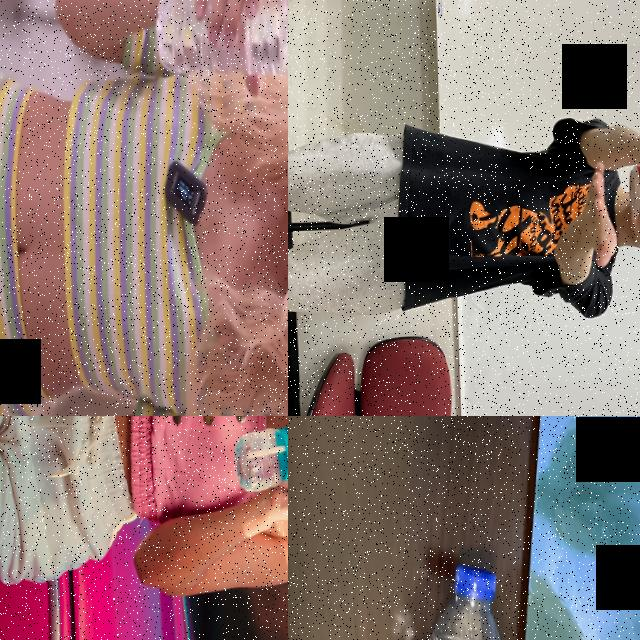bottle: (354, 546, 513, 640), (154, 0, 288, 78), (233, 416, 288, 492)
